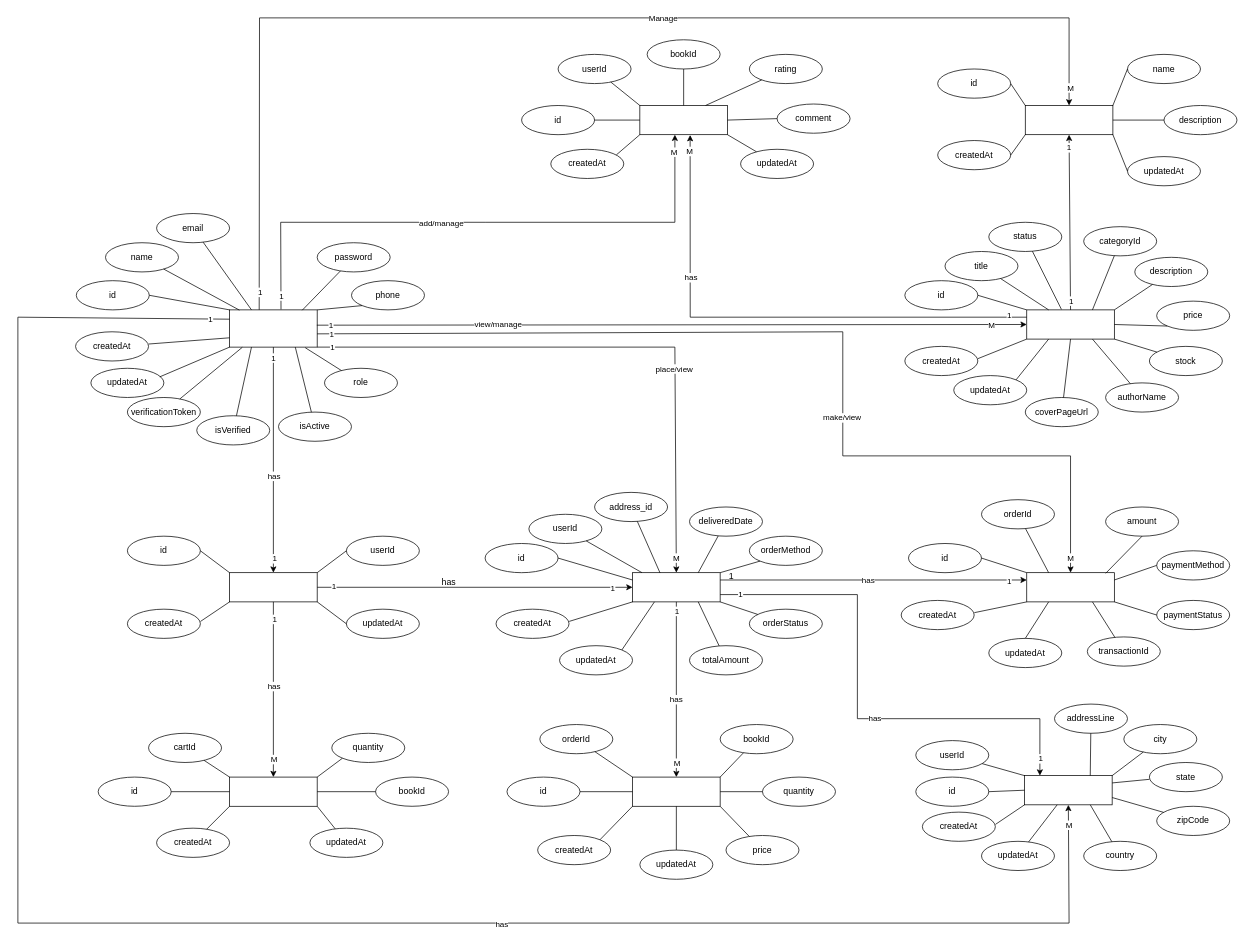
Image size: 1250x942. Some labels were removed from this diagram. Here are the shapes that lost their labels. From the top down, the centre of each, then its label:
At point 683,120: "Reviews".
At point 1069,120: "Categories".
At point 273,328: "Users".
At point 1070,324: "Books".
At point 273,587: "Carts".
At point 676,587: "Orders".
At point 1070,587: "Payments".
At point 273,791: "Cart_books".
At point 676,791: "Order_books".
At point 1068,790: "User_addresses".
